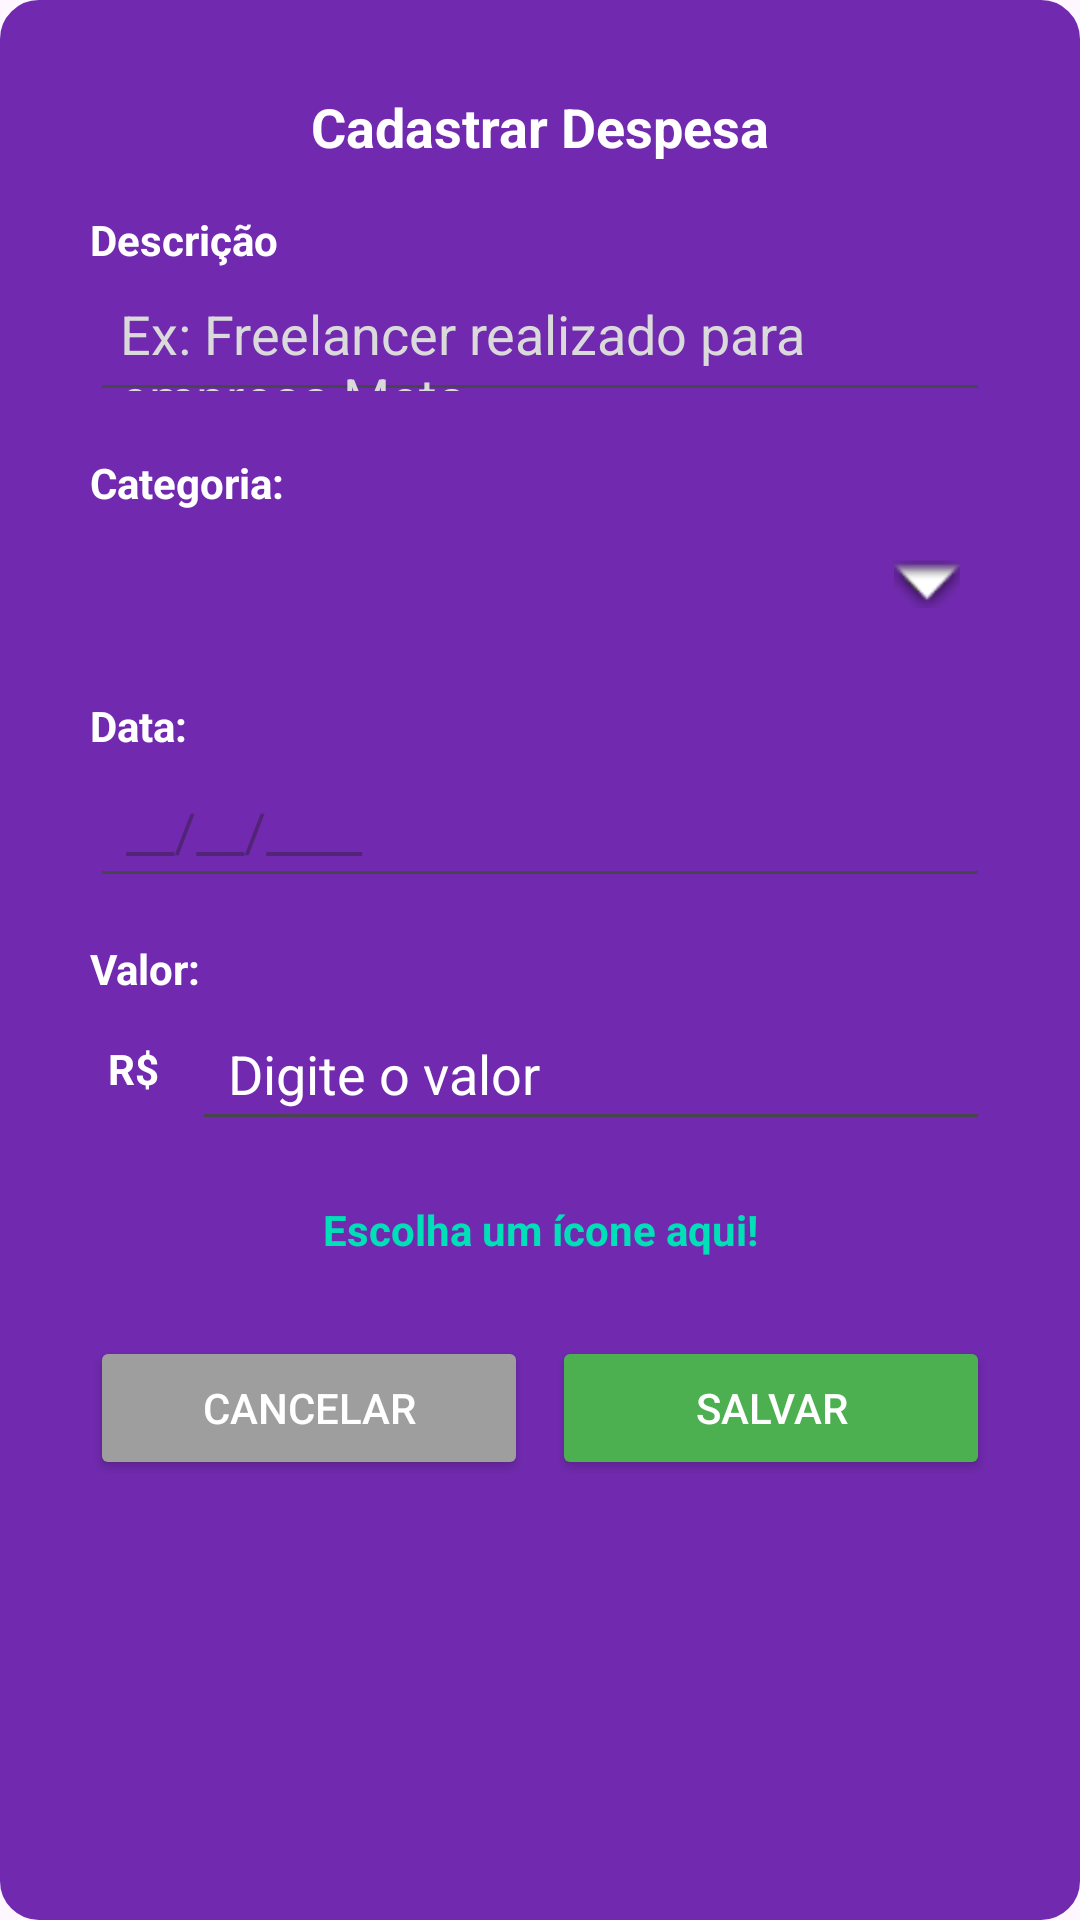

Icons on this 1080*1920 Android screen, each with the point to tap as (x=x, y=y):
arrow down float: (x=927, y=583)
